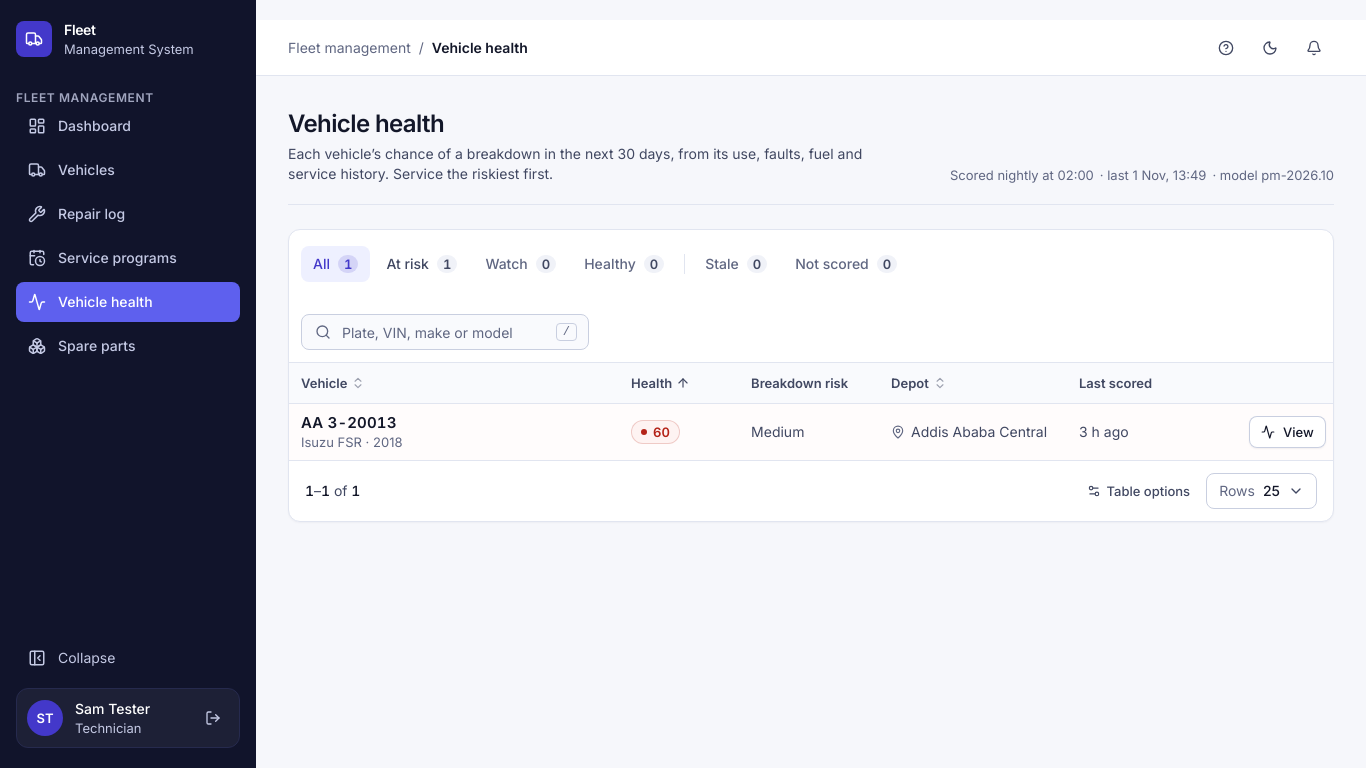
Test: Vehicle health (S-19) › schedules an inspection: the repair form opens on the vehicle as an inspection saying why
Click the text "AA 3-20013".
click(349, 422)  # box [301, 412, 396, 432]
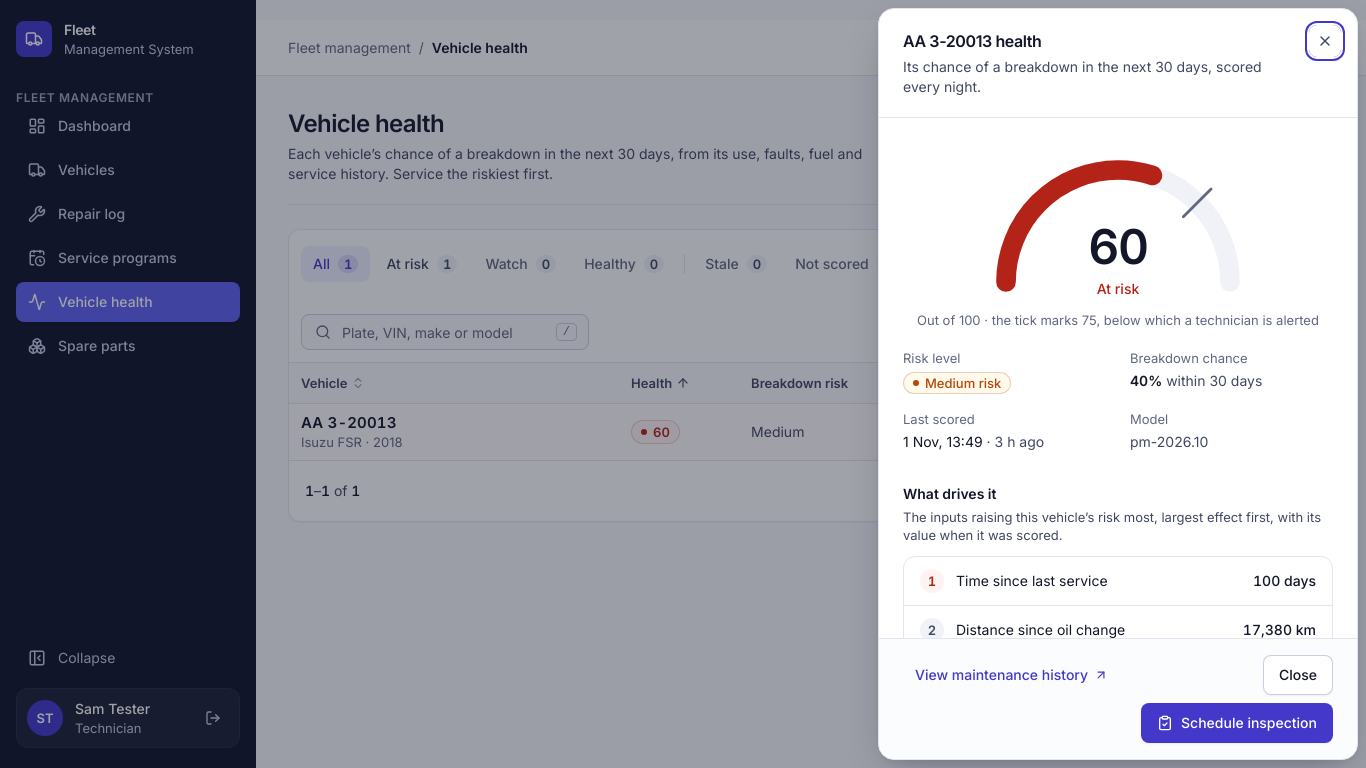
Click the button "Schedule inspection".
click(1237, 723)  # box [1141, 703, 1333, 743]
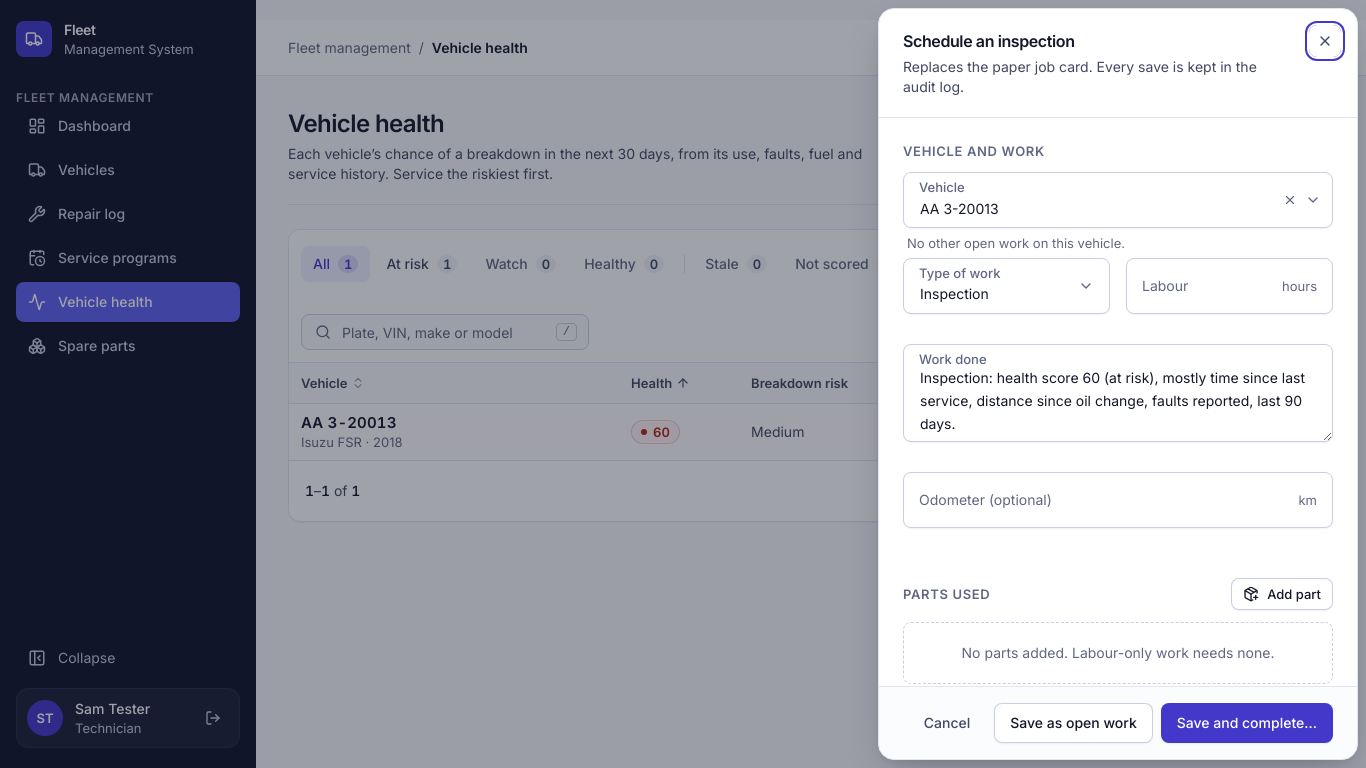
expect the text box labelled "Work done" holds "Inspection: health score 60 (at risk), mostly time since last service, distance since oil change, faults reported, last 90 days.": met, box [903, 344, 1333, 442]
